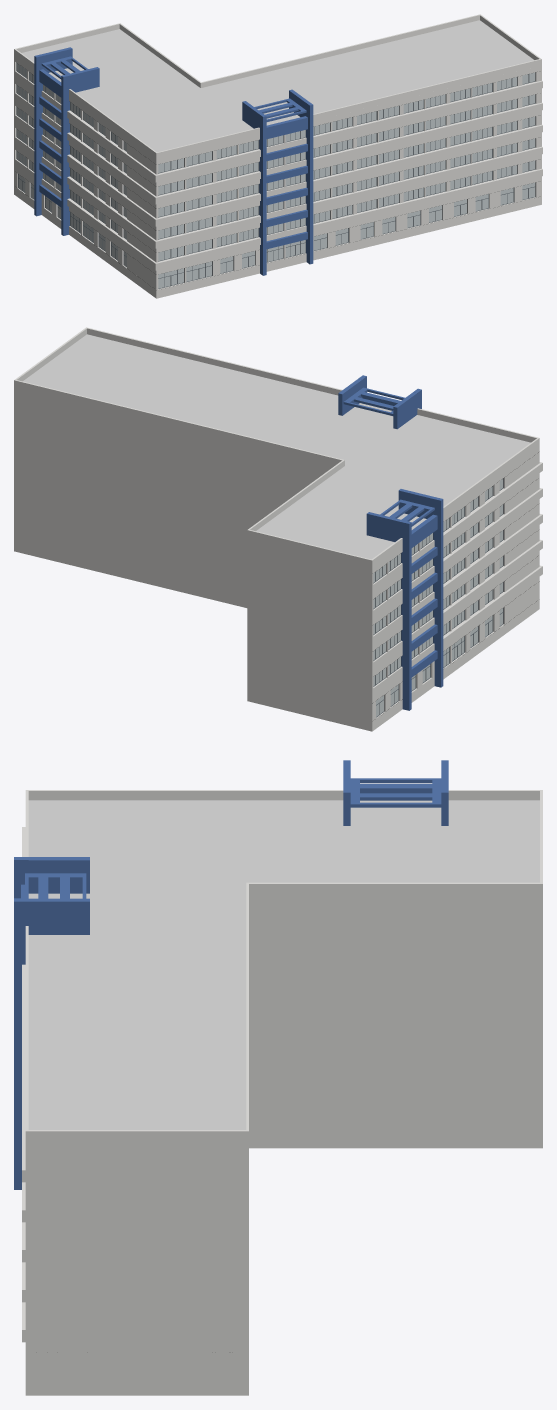
Rendered from bangongloulan5zhuanjiao.glb.
3 views of the same model, one above another, from view 1: azimuth 30°, elevation 25°; view 2: azimuth 150°, elevation 25°; view 3: azimuth 270°, elevation 25° (orthographic). The views are drawn at different scales.
Visible parts, largest first — view 1: Obj3d66-593688-752-764, Obj3d66-593688-745-838, Obj3d66-593688-544-550, Obj3d66-593688-471-255, Obj3d66-593688-545-816, Obj3d66-593688-568-788, Obj3d66-593688-589-36, Obj3d66-593688-610-361, Obj3d66-593688-611-374, Obj3d66-593688-397-279, Obj3d66-593688-546-715, Obj3d66-593688-472-937 (+56 smaller); view 2: Obj3d66-593688-745-838, Obj3d66-593688-752-764, Obj3d66-593688-610-361, Obj3d66-593688-736-630, Obj3d66-593688-735-684, Obj3d66-593688-738-278, Obj3d66-593688-617-507, Obj3d66-593688-661-880, Obj3d66-593688-619-664, Obj3d66-593688-633-672, Obj3d66-593688-642-865, Obj3d66-593688-652-379 (+24 smaller); view 3: Obj3d66-593688-745-838, Obj3d66-593688-752-764, Obj3d66-593688-669-789, Obj3d66-593688-728-172, Obj3d66-593688-726-807, Obj3d66-593688-727-223, Obj3d66-593688-692-818, Obj3d66-593688-568-788, Obj3d66-593688-610-361.
Part boxes in pixels (left/top/right/bottom): Obj3d66-593688-752-764: left=22, top=20, right=534, bottom=152; Obj3d66-593688-745-838: left=14, top=14, right=541, bottom=204; Obj3d66-593688-544-550: left=313, top=168, right=542, bottom=231; Obj3d66-593688-471-255: left=313, top=146, right=542, bottom=209; Obj3d66-593688-545-816: left=313, top=124, right=542, bottom=187; Obj3d66-593688-568-788: left=313, top=80, right=542, bottom=143; Obj3d66-593688-589-36: left=313, top=102, right=542, bottom=165; Obj3d66-593688-610-361: left=313, top=58, right=541, bottom=120; Obj3d66-593688-611-374: left=313, top=65, right=540, bottom=126; Obj3d66-593688-397-279: left=155, top=127, right=259, bottom=164; Obj3d66-593688-546-715: left=313, top=110, right=540, bottom=170; Obj3d66-593688-472-937: left=313, top=132, right=540, bottom=192; Obj3d66-593688-745-838: left=14, top=328, right=372, bottom=731; Obj3d66-593688-752-764: left=23, top=334, right=530, bottom=559; Obj3d66-593688-610-361: left=86, top=327, right=342, bottom=395; Obj3d66-593688-736-630: left=401, top=520, right=411, bottom=710; Obj3d66-593688-735-684: left=433, top=497, right=443, bottom=687; Obj3d66-593688-738-278: left=366, top=512, right=411, bottom=547; Obj3d66-593688-617-507: left=443, top=599, right=539, bottom=679; Obj3d66-593688-661-880: left=443, top=464, right=540, bottom=543; Obj3d66-593688-619-664: left=443, top=566, right=541, bottom=646; Obj3d66-593688-633-672: left=443, top=541, right=540, bottom=620; Obj3d66-593688-642-865: left=443, top=515, right=540, bottom=594; Obj3d66-593688-652-379: left=443, top=490, right=540, bottom=568; Obj3d66-593688-745-838: left=25, top=790, right=542, bottom=1395; Obj3d66-593688-752-764: left=28, top=800, right=539, bottom=1129; Obj3d66-593688-669-789: left=28, top=790, right=343, bottom=800; Obj3d66-593688-728-172: left=14, top=898, right=89, bottom=938; Obj3d66-593688-726-807: left=14, top=898, right=28, bottom=1189; Obj3d66-593688-727-223: left=14, top=857, right=89, bottom=896; Obj3d66-593688-692-818: left=448, top=790, right=539, bottom=800; Obj3d66-593688-568-788: left=22, top=964, right=25, bottom=1182; Obj3d66-593688-610-361: left=25, top=926, right=28, bottom=1137.
Size of the model in its own units: 0.6465 by 0.251 by 0.4171.
